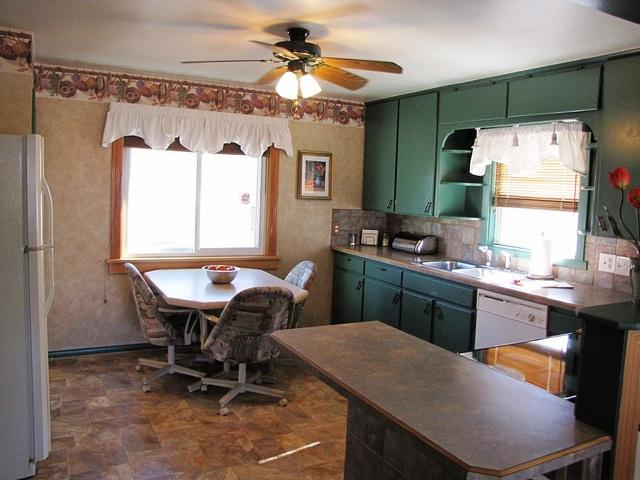Lemari: (360, 75, 487, 217)
